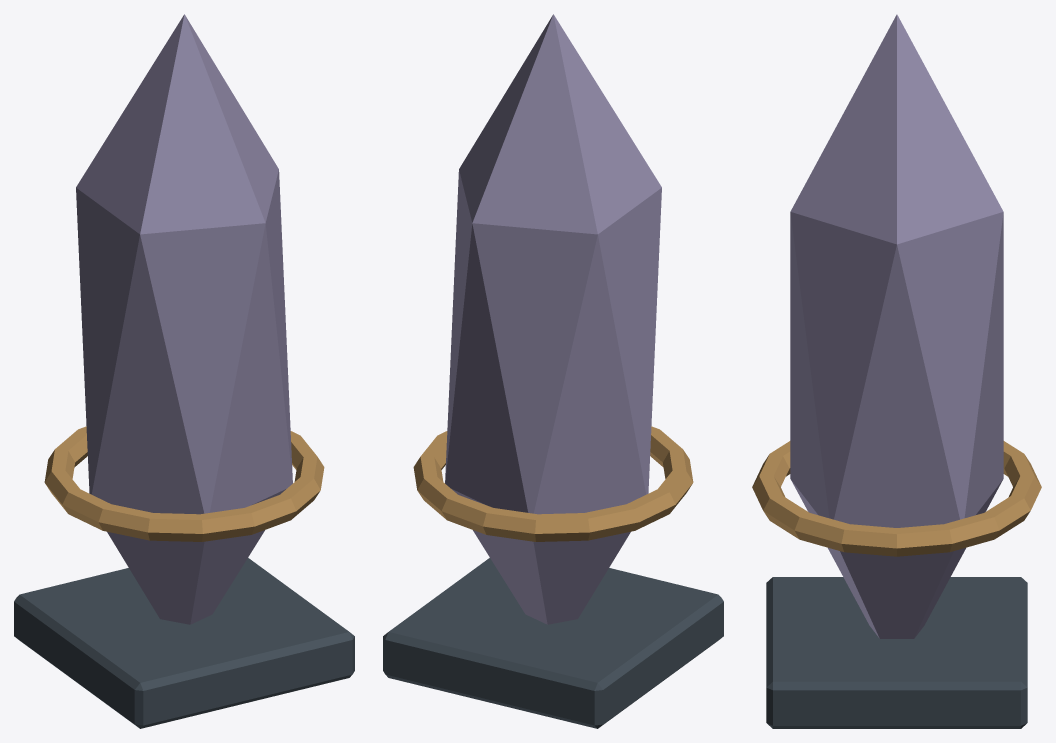
File: SH10_L09_Obelisk.fbx
3 renders of one model, left to right at view 1: azimuth 30°, elevation 25°; view 2: azimuth 150°, elevation 25°; view 3: azimuth 270°, elevation 25°, orthographic. The views are drawn at different scales.
Visible parts, largest first — view 1: SH10_L09_Obelisk; view 2: SH10_L09_Obelisk; view 3: SH10_L09_Obelisk.
Boxes of the visible parts, x1,y1,x2,y2 form: SH10_L09_Obelisk: (14, 14, 354, 728); SH10_L09_Obelisk: (383, 14, 723, 728); SH10_L09_Obelisk: (752, 14, 1041, 728).
Size of the model in its own units: 111 by 280 by 111.
